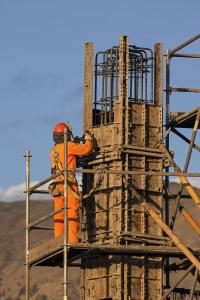helmet: (49, 121, 73, 144)
